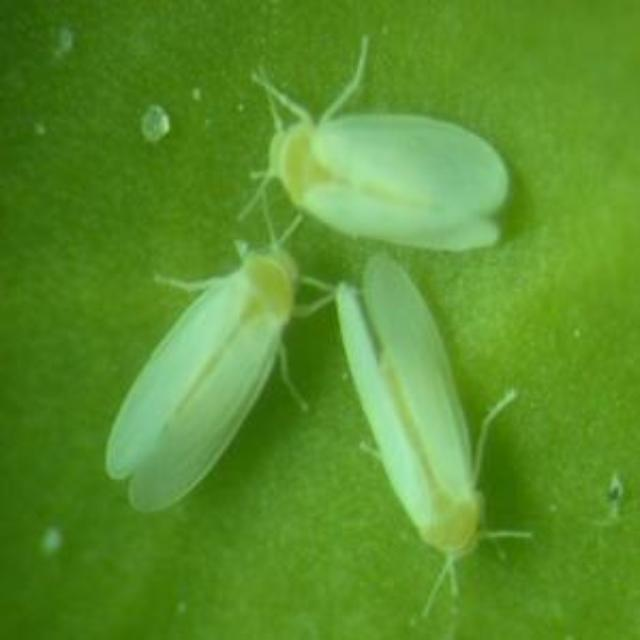Silverleaf whitefly: (308, 247, 536, 588), (223, 29, 521, 252), (93, 232, 315, 526)
